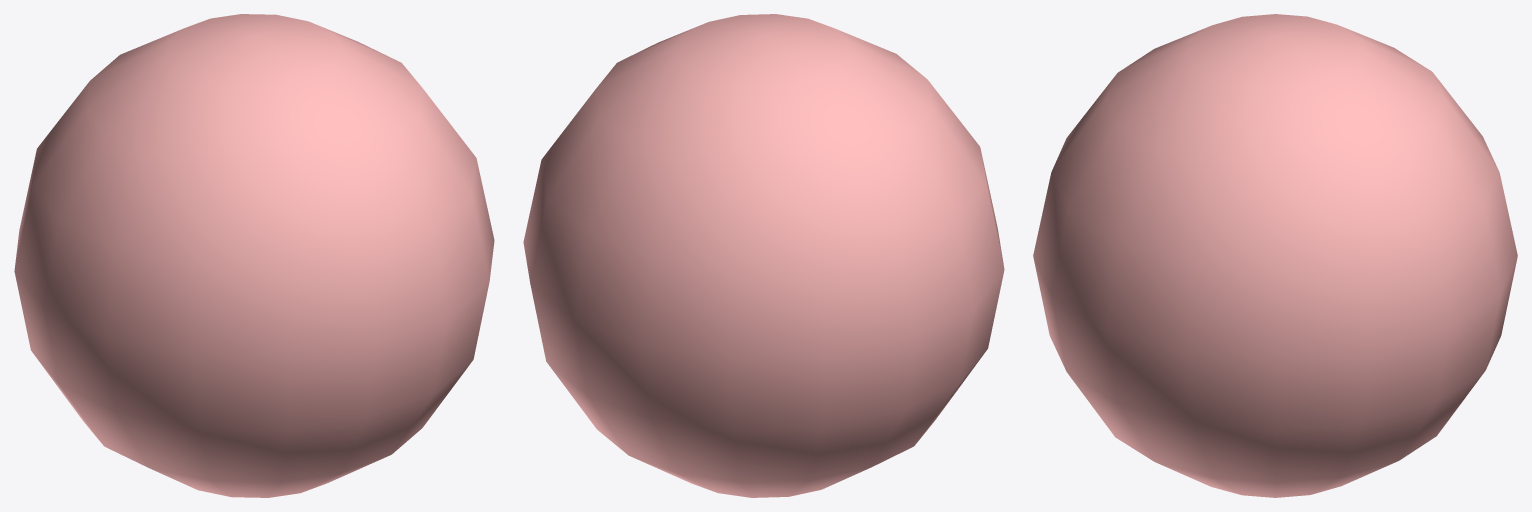
Rendered from VirginiaNODE.gltf.
3 renders of one model, left to right at view 1: azimuth 30°, elevation 25°; view 2: azimuth 150°, elevation 25°; view 3: azimuth 270°, elevation 25°, orthographic.
Visible parts, largest first — view 1: VirginiaNODE; view 2: VirginiaNODE; view 3: VirginiaNODE.
Boxes of the visible parts, x1,y1,x2,y2 form: VirginiaNODE: (14, 14, 494, 497); VirginiaNODE: (523, 14, 1004, 497); VirginiaNODE: (1033, 14, 1517, 497).
Bounding box in the file's own units: 0.5144 × 0.5144 × 0.5144.
